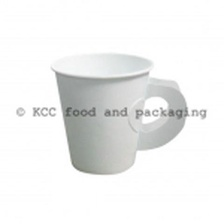paper_cup: (45, 49, 192, 180)
